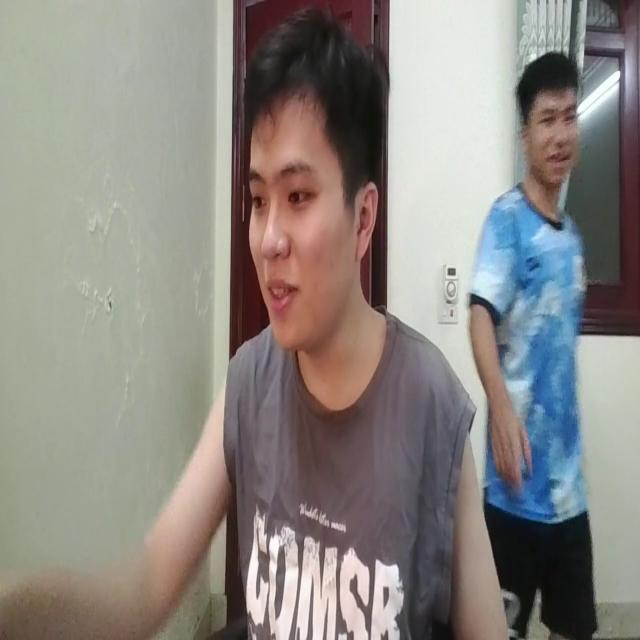extra_person: (468, 55, 608, 640)
student: (71, 15, 500, 640)
